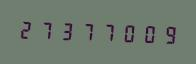nine: (157, 22, 176, 46)
seven: (37, 17, 56, 42), (97, 19, 116, 44), (77, 19, 96, 43)
three: (57, 18, 76, 43)
two: (17, 17, 36, 41)
zero: (117, 20, 136, 45), (137, 21, 156, 46)
